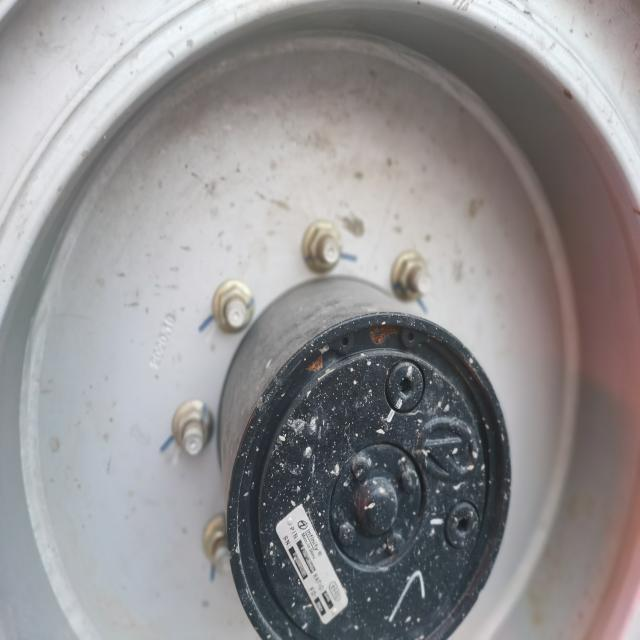blur bolt: (217, 284, 254, 334), (176, 407, 212, 454), (395, 253, 431, 300), (205, 526, 241, 571), (308, 226, 343, 270)
